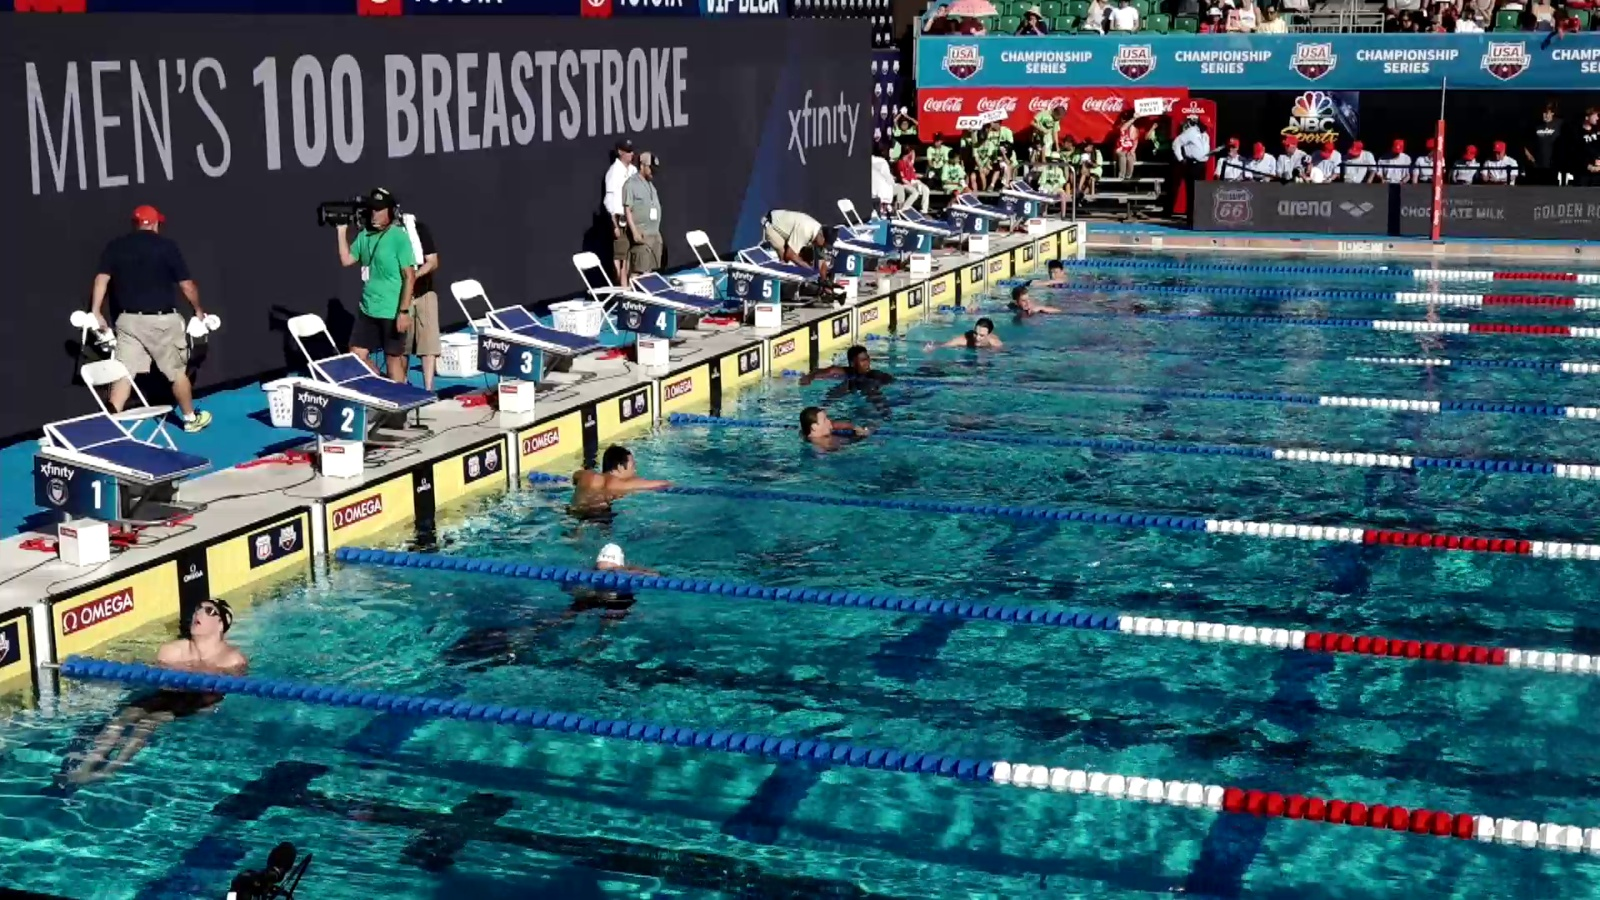swimmerw: (54, 599, 251, 795), (541, 544, 659, 651), (553, 445, 666, 552), (807, 344, 903, 420), (789, 404, 874, 473), (921, 316, 1005, 363), (973, 284, 1059, 325), (1025, 257, 1087, 288)
